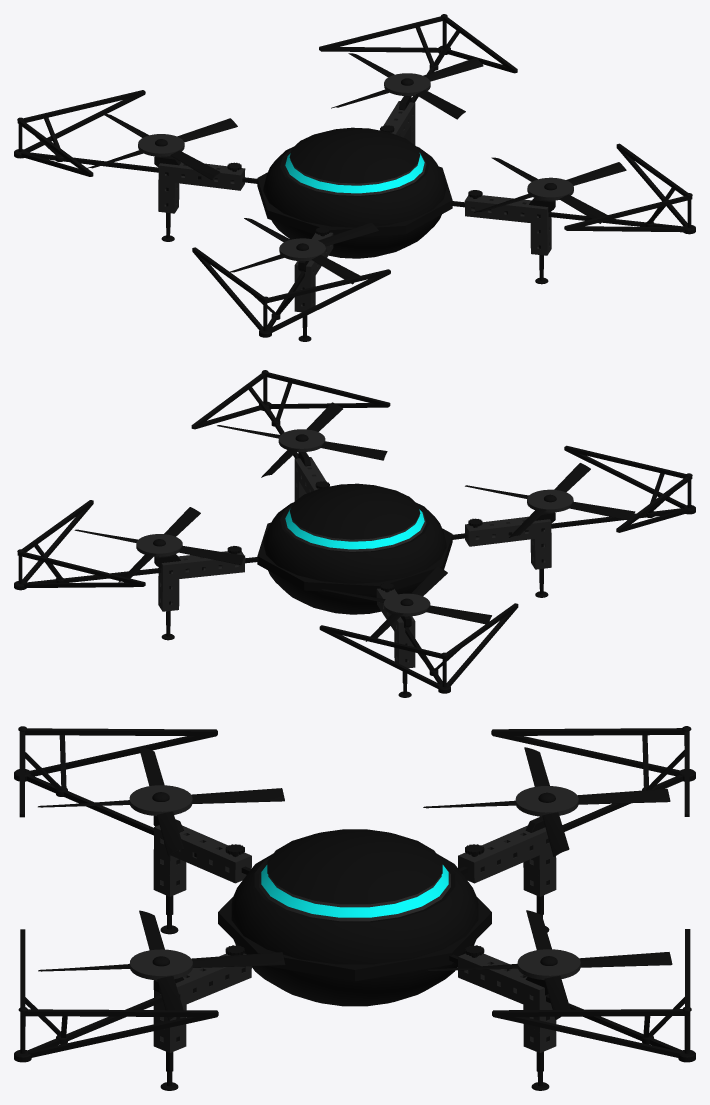
The model's file is textured_drone.obj.
3 views of the same model, one above another, from view 1: azimuth 30°, elevation 25°; view 2: azimuth 150°, elevation 25°; view 3: azimuth 270°, elevation 25° (orthographic). The views are drawn at different scales.
Visible parts, largest first — view 1: polySurface247; view 2: polySurface247; view 3: polySurface247.
Part boxes in pixels (x1,y1,x2,y2): polySurface247: [14, 14, 695, 341]; polySurface247: [14, 370, 695, 697]; polySurface247: [14, 726, 695, 1090].
Size of the model in its own units: 77.57 by 20.39 by 77.57.
